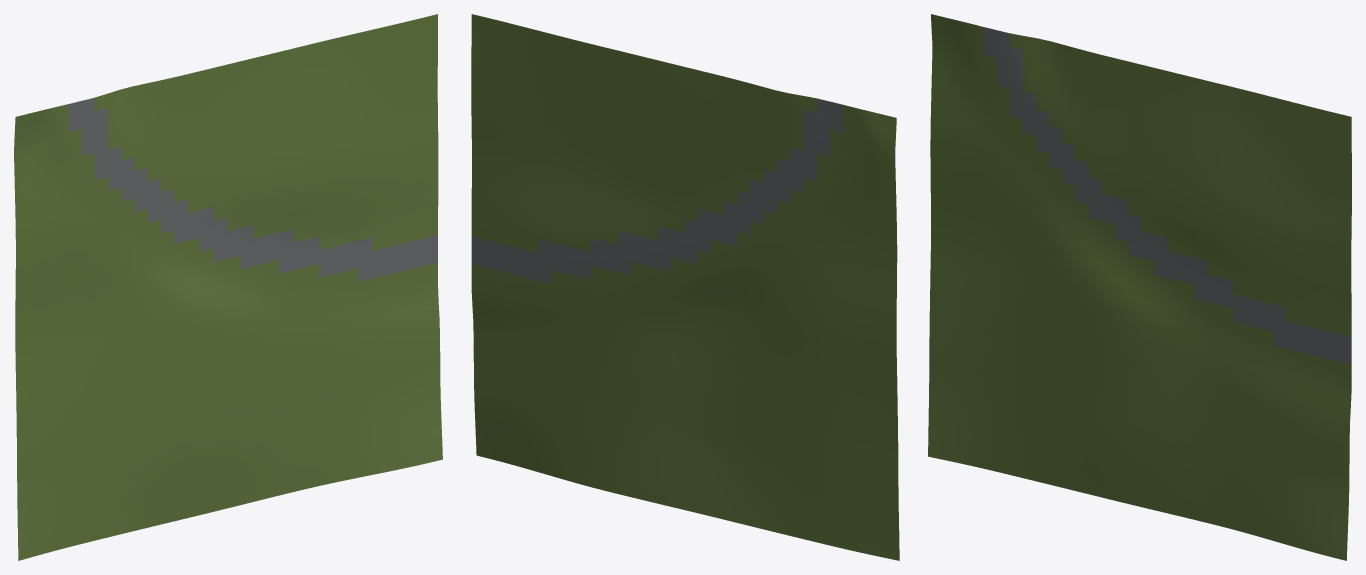
File: island_terrain_22_05.obj
The picture shows the model from 3 angles, left to right: view 1: azimuth 30°, elevation 25°; view 2: azimuth 150°, elevation 25°; view 3: azimuth 330°, elevation 25°; orthographic projection.
Parts seen in each view (by area): view 1: island_terrain_22_05; view 2: island_terrain_22_05; view 3: island_terrain_22_05.
Boxes of the visible parts, x1,y1,x2,y2 form: island_terrain_22_05: (14,14,442,560); island_terrain_22_05: (471,14,899,560); island_terrain_22_05: (928,14,1351,560).
Bounding box in the file's own units: 256 × 256 × 7.4.
